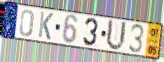0: (18, 9, 35, 38)
3: (81, 17, 100, 48), (128, 23, 145, 55)
6: (61, 14, 79, 46)
K: (37, 10, 55, 41)
U: (105, 18, 128, 52)
